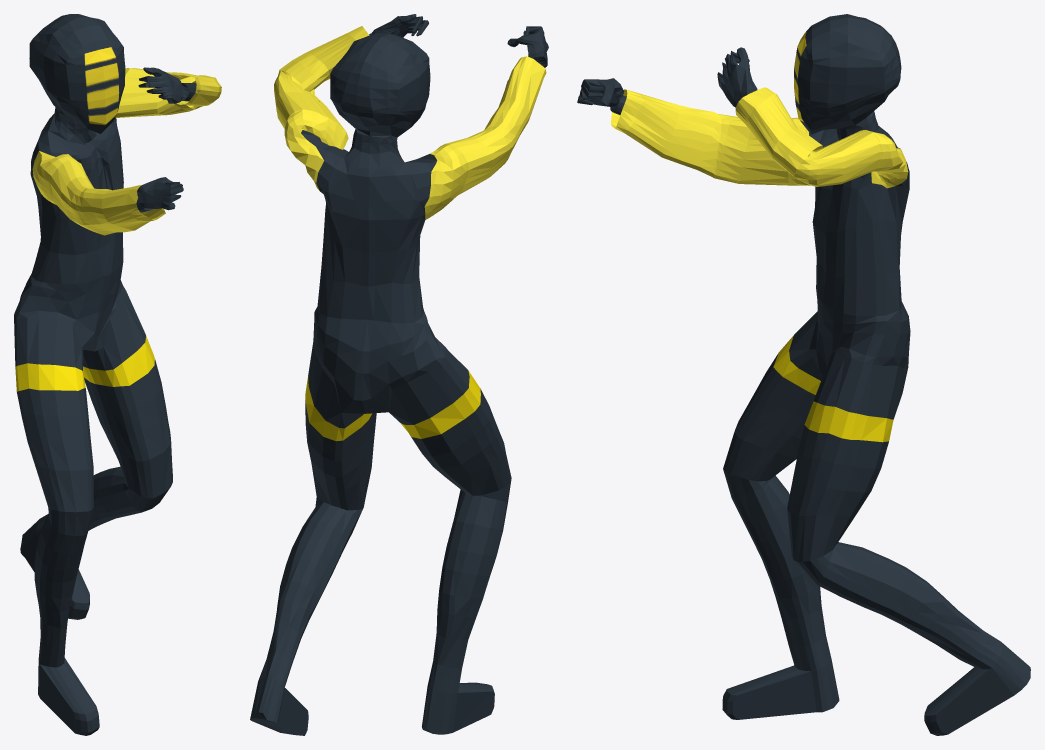
Rendered from Sentry_Attack_000004.obj.
The picture shows the model from 3 angles, left to right: view 1: azimuth 30°, elevation 25°; view 2: azimuth 150°, elevation 25°; view 3: azimuth 270°, elevation 25°; orthographic projection. The views are drawn at different scales.
Visible parts, largest first — view 1: Cube; view 2: Cube; view 3: Cube.
Part boxes in pixels (x1,y1,x2,y2): Cube: (14,14,221,735); Cube: (250,14,548,735); Cube: (577,14,1030,735).
Size of the model in its own units: 1.17 by 3.76 by 2.14.
